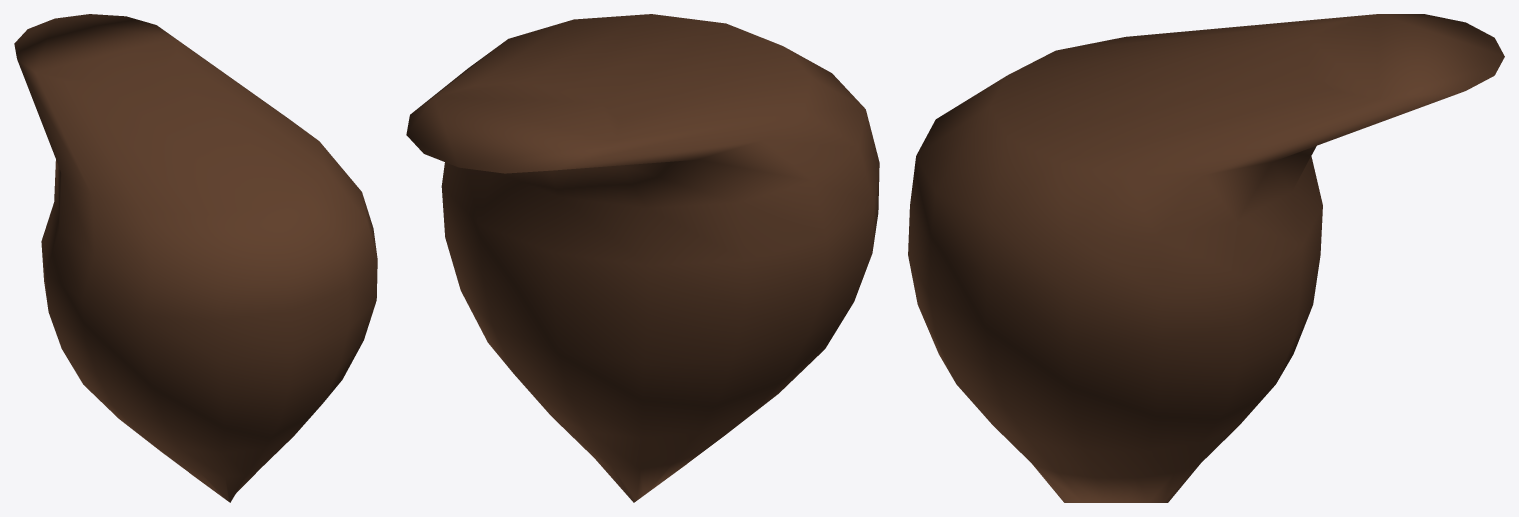
Rendered from beard_soul_patch.glb.
3 views of the same model, side by side, from view 1: azimuth 30°, elevation 25°; view 2: azimuth 150°, elevation 25°; view 3: azimuth 270°, elevation 25° (orthographic). The views are drawn at different scales.
Visible parts, largest first — view 1: BeardSoulPatch; view 2: BeardSoulPatch; view 3: BeardSoulPatch.
Boxes of the visible parts, x1,y1,x2,y2 form: BeardSoulPatch: (14, 14, 377, 502); BeardSoulPatch: (406, 14, 879, 502); BeardSoulPatch: (908, 14, 1504, 502).
Size of the model in its own units: 0.0814 by 0.095 by 0.1152.
